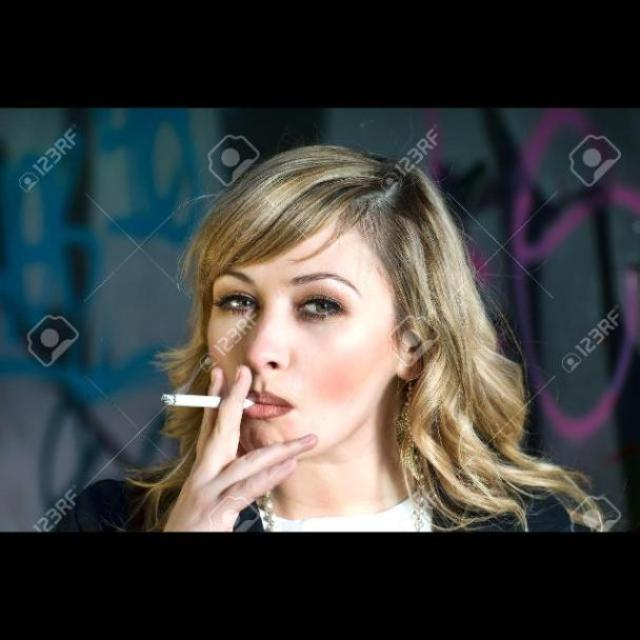rokok: (159, 380, 253, 418)
